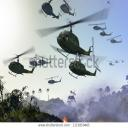helicopter: (45, 18, 99, 64), (9, 51, 36, 77), (71, 58, 101, 81), (40, 1, 61, 25), (64, 2, 79, 21), (91, 20, 108, 33), (45, 77, 65, 88), (107, 35, 125, 46), (31, 58, 39, 72), (40, 57, 51, 67), (102, 30, 114, 38), (108, 59, 117, 68), (115, 56, 121, 64), (107, 1, 113, 6), (121, 59, 126, 63)
